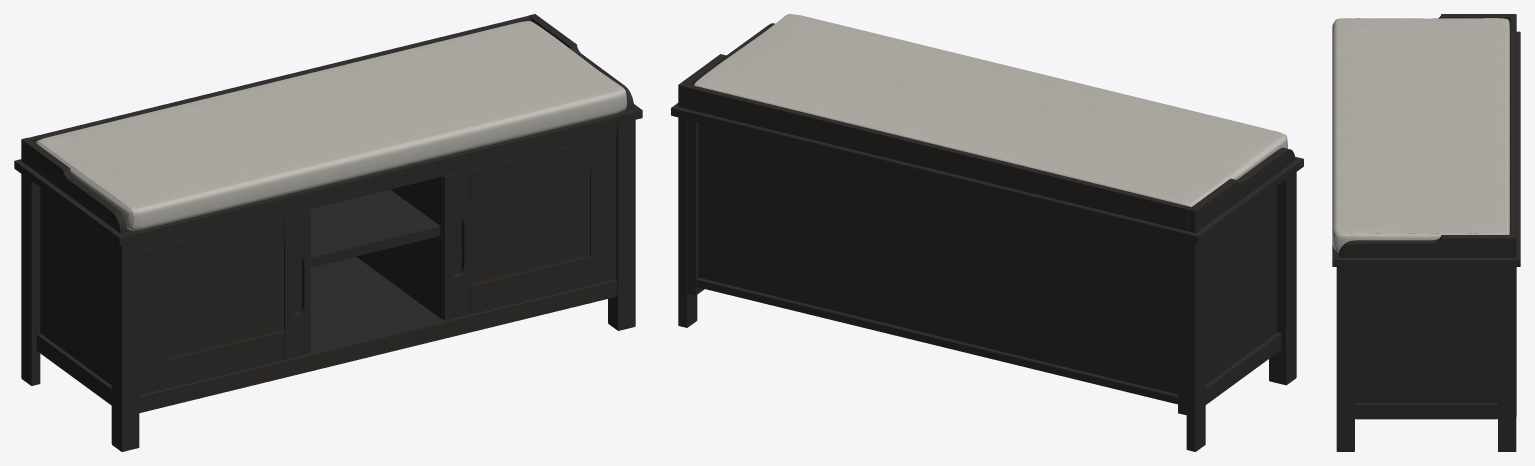
The model's file is abo-B07MF1RR2V.glb.
The picture shows the model from 3 angles, left to right: view 1: azimuth 30°, elevation 25°; view 2: azimuth 150°, elevation 25°; view 3: azimuth 270°, elevation 25°; orthographic projection. The views are drawn at different scales.
Size of the model in its own units: 1.14 by 0.501 by 0.398.
Materials: 1 (1 with a texture image).
